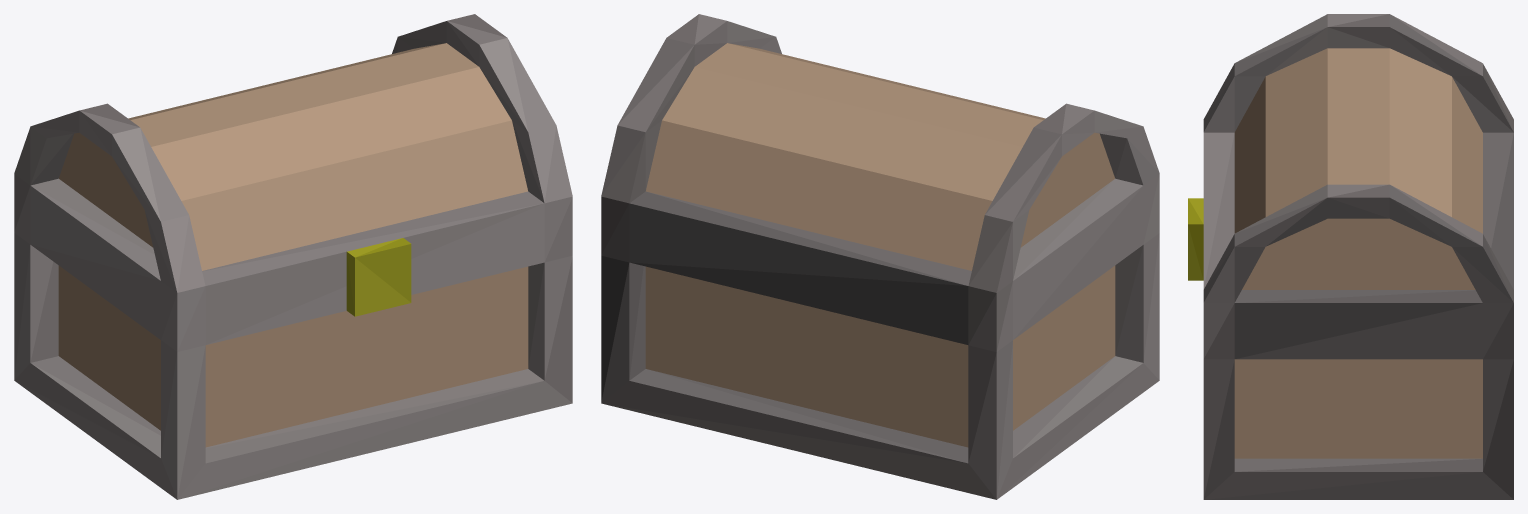
Rendered from Chest.fbx.
3 renders of one model, left to right at view 1: azimuth 30°, elevation 25°; view 2: azimuth 150°, elevation 25°; view 3: azimuth 270°, elevation 25°, orthographic. The views are drawn at different scales.
Visible parts, largest first — view 1: Object Chest 2026-08-02_12-27-30; view 2: Object Chest 2026-08-02_12-27-30; view 3: Object Chest 2026-08-02_12-27-30.
Boxes of the visible parts, x1,y1,x2,y2 form: Object Chest 2026-08-02_12-27-30: (14,14,572,499); Object Chest 2026-08-02_12-27-30: (601,14,1159,499); Object Chest 2026-08-02_12-27-30: (1188,14,1513,499).
Bounding box in the file's own units: 11200 × 8600 × 8400.
